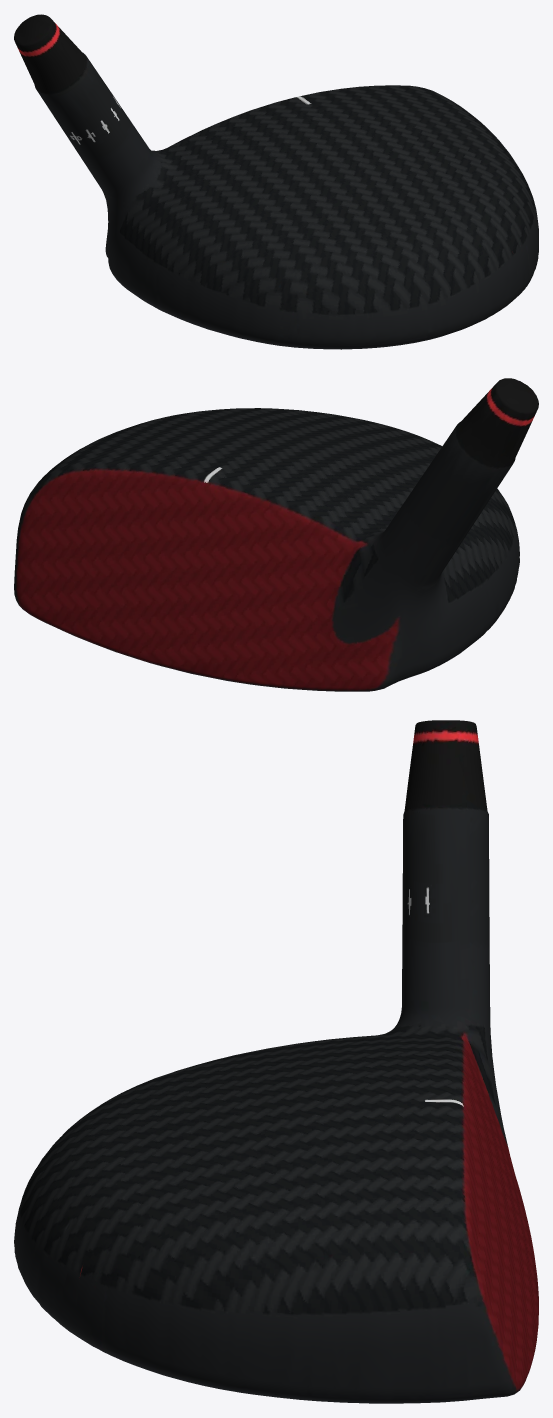
3 views of the same model, one above another, from view 1: azimuth 30°, elevation 25°; view 2: azimuth 150°, elevation 25°; view 3: azimuth 270°, elevation 25° (orthographic). The views are drawn at different scales.
Visible parts, largest first — view 1: head; view 2: head; view 3: head.
Boxes of the visible parts, left/top/right/bottom form: head: left=14, top=14, right=538, bottom=349; head: left=14, top=378, right=538, bottom=691; head: left=14, top=720, right=538, bottom=1403.
Bounding box in the file's own units: 0.1184 × 0.0736 × 0.0834.
Materials: 1 (1 with a texture image).
